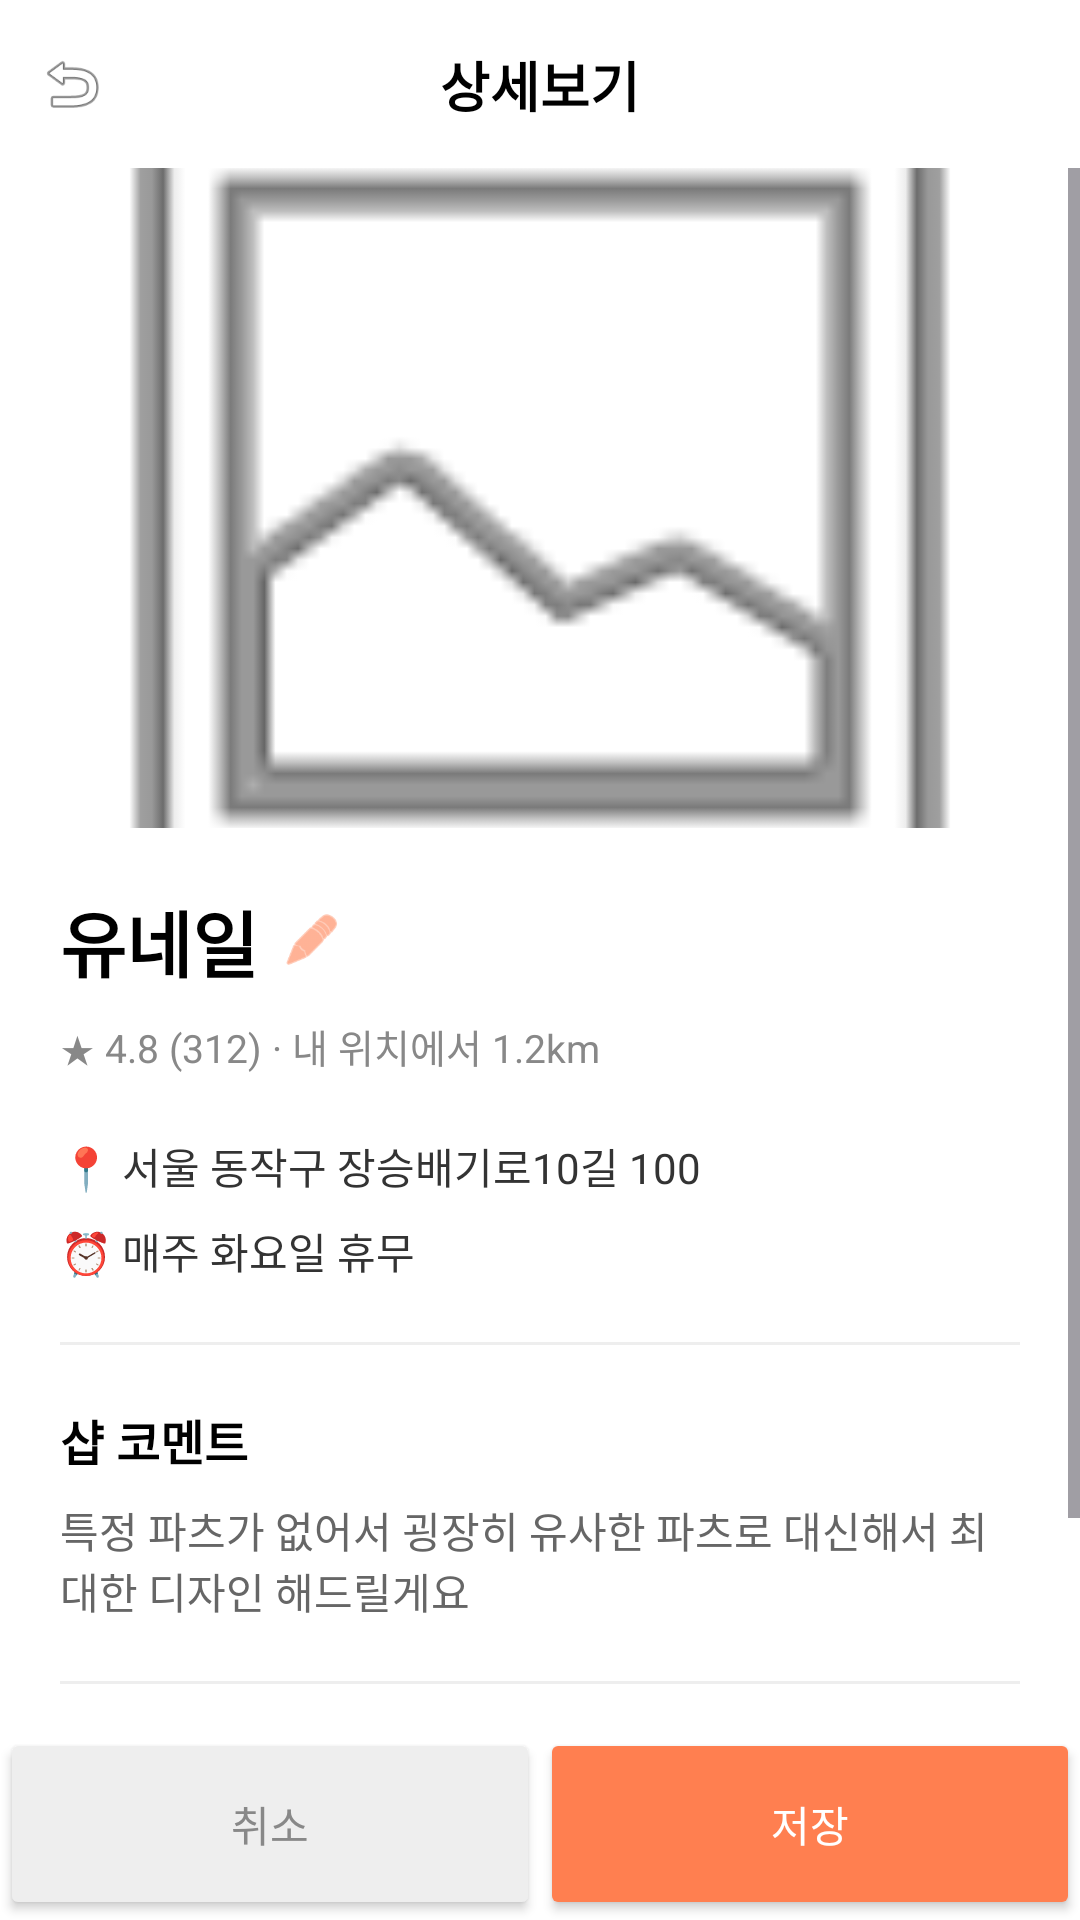

Named icons in this screenshot (1080px x 1920px) and their bounding boxes, (x1, y1, x2, y2):
edit: (286, 914, 337, 965)
revert: (47, 61, 99, 108)
